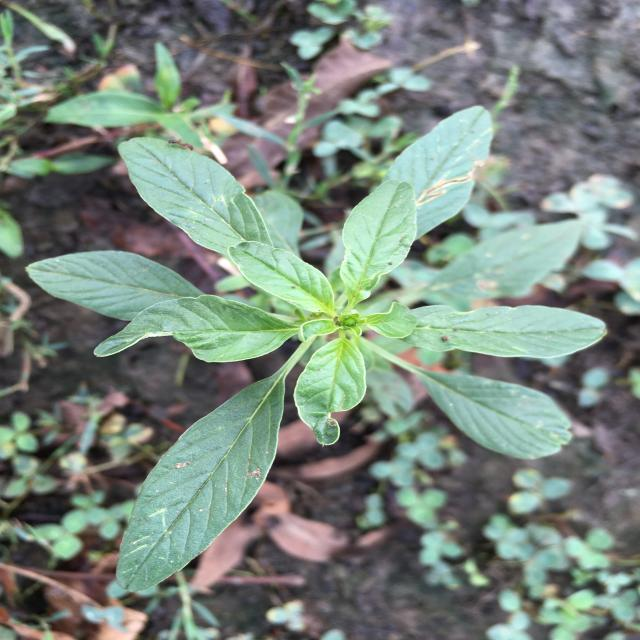Waterhemp: (25, 106, 608, 592)
